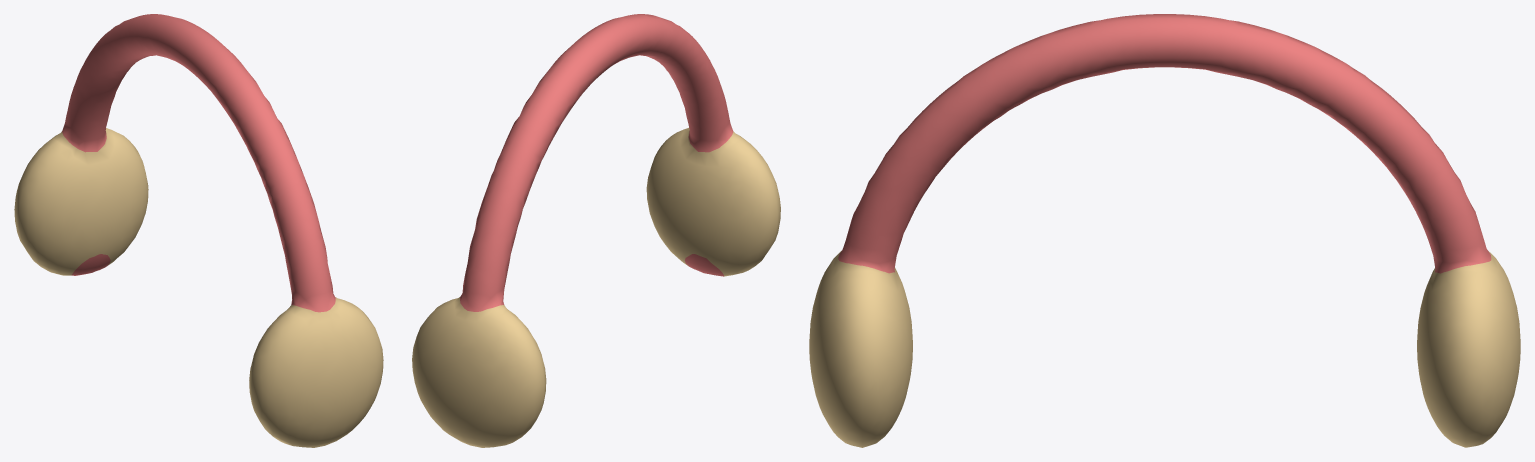
Rendered from acc_headphones.glb.
3 views of the same model, side by side, from view 1: azimuth 30°, elevation 25°; view 2: azimuth 150°, elevation 25°; view 3: azimuth 270°, elevation 25° (orthographic). The views are drawn at different scales.
Visible parts, largest first — view 1: body; view 2: body; view 3: body.
Boxes of the visible parts, bbox=[...] form: body: bbox=[14, 14, 383, 447]; body: bbox=[412, 14, 780, 447]; body: bbox=[809, 14, 1520, 447].
Size of the model in its own units: 0.2398 by 0.5833 by 0.8898.
